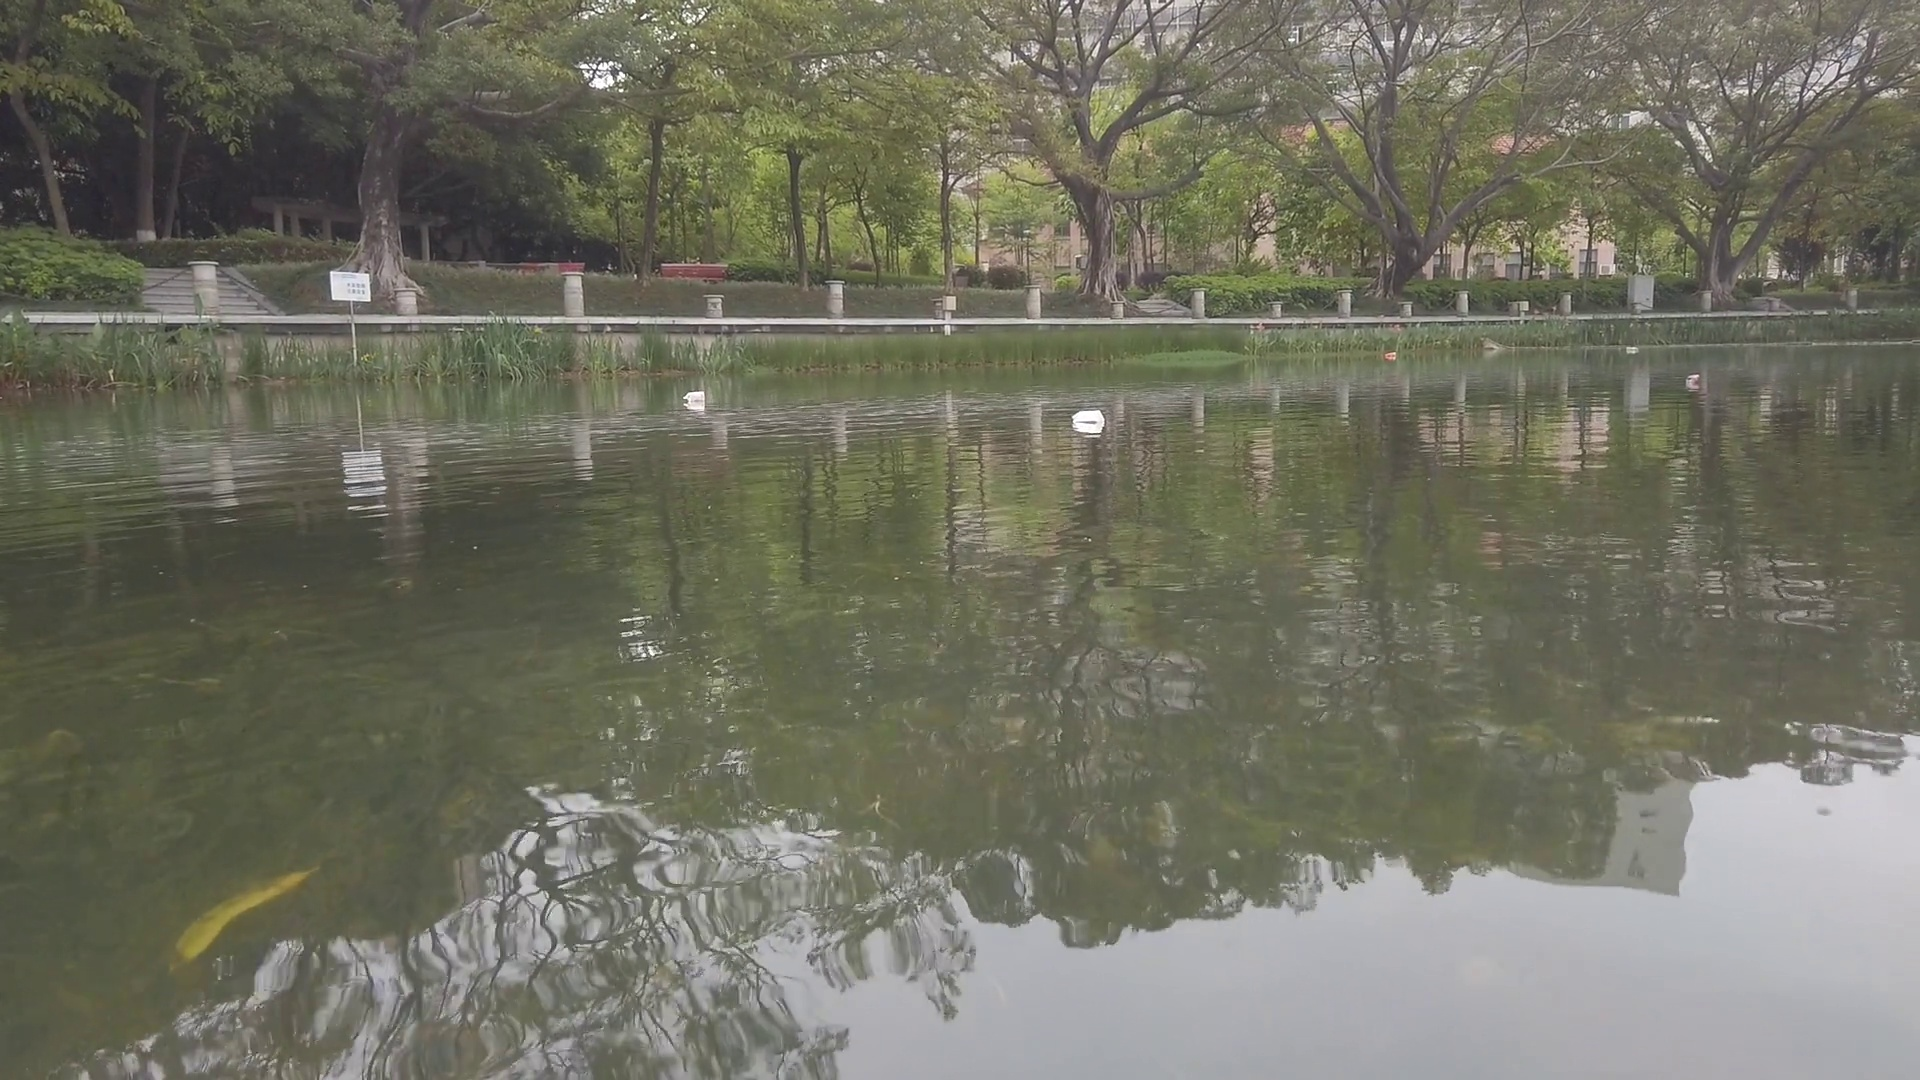bottle: (1627, 347, 1638, 352), (1386, 353, 1395, 357)
carton: (1069, 405, 1109, 429), (684, 392, 705, 401), (1687, 375, 1698, 385)
